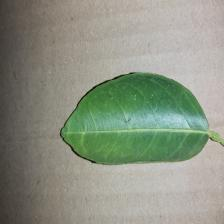greening: (59, 70, 224, 166)
